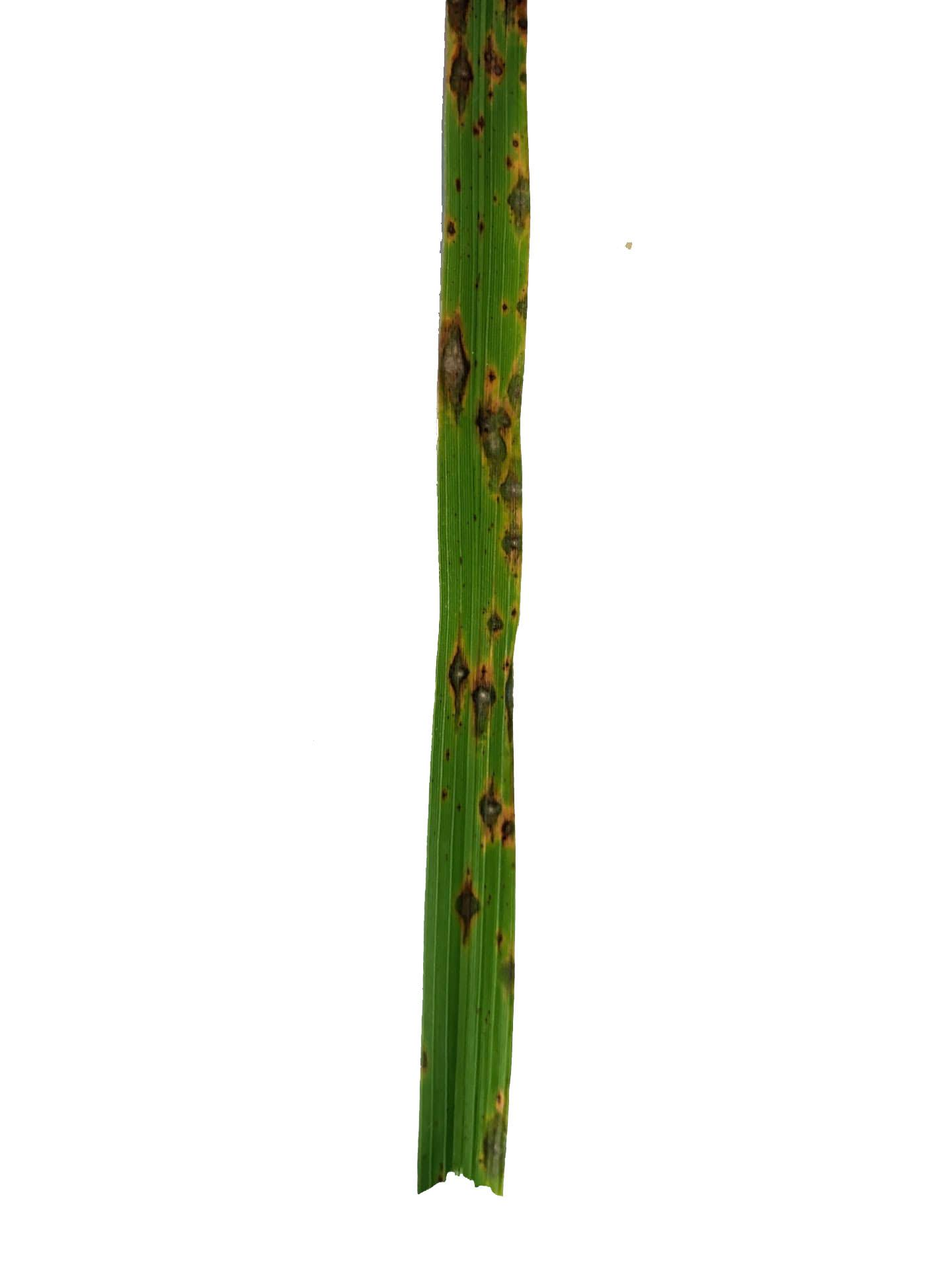Rice blast: (495, 133, 532, 250), (480, 373, 510, 479), (441, 315, 468, 431), (468, 653, 499, 736), (452, 46, 476, 126), (452, 880, 478, 951), (449, 636, 469, 722), (478, 37, 503, 103), (481, 786, 507, 839), (448, 0, 478, 43), (503, 0, 527, 39), (511, 509, 521, 571), (517, 289, 524, 329)
